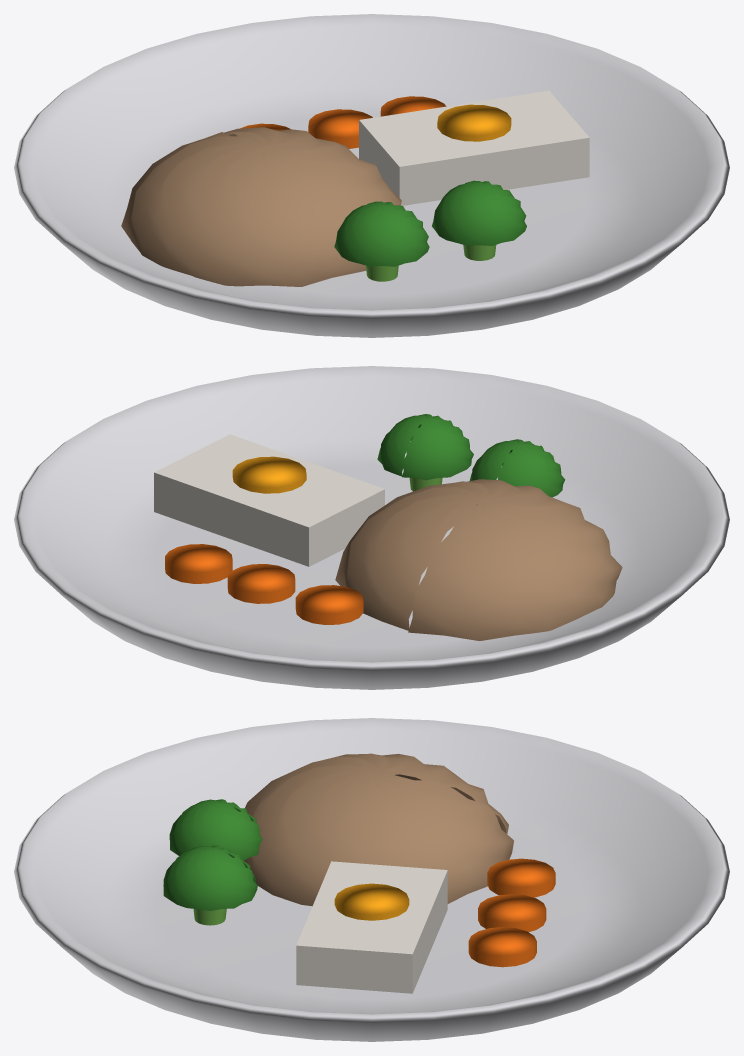
Rendered from Dish_02_SteamedFishBrownRice.obj.
3 renders of one model, top to bottom at view 1: azimuth 30°, elevation 25°; view 2: azimuth 150°, elevation 25°; view 3: azimuth 270°, elevation 25°, orthographic.
Parts seen in each view (by area): view 1: Mat_FoodPlate, Mat_BrownRice, Mat_SteamedFish, Mat_Broccoli, Mat_Carrot, Mat_EggYolk, Mat_Vegetables; view 2: Mat_FoodPlate, Mat_BrownRice, Mat_SteamedFish, Mat_Broccoli, Mat_Carrot, Mat_EggYolk; view 3: Mat_FoodPlate, Mat_BrownRice, Mat_SteamedFish, Mat_Broccoli, Mat_Carrot, Mat_EggYolk.
Part boxes in pixels (left/top/right/bottom): Mat_FoodPlate: left=14, top=14, right=729, bottom=337; Mat_BrownRice: left=121, top=127, right=401, bottom=286; Mat_SteamedFish: left=359, top=91, right=589, bottom=205; Mat_Broccoli: left=334, top=180, right=526, bottom=266; Mat_Carrot: left=240, top=96, right=446, bottom=148; Mat_EggYolk: left=437, top=104, right=511, bottom=141; Mat_Vegetables: left=366, top=245, right=496, bottom=281; Mat_FoodPlate: left=14, top=366, right=729, bottom=689; Mat_BrownRice: left=335, top=479, right=622, bottom=640; Mat_SteamedFish: left=154, top=434, right=384, bottom=566; Mat_Broccoli: left=377, top=414, right=565, bottom=497; Mat_Carrot: left=165, top=544, right=363, bottom=624; Mat_EggYolk: left=232, top=456, right=306, bottom=493; Mat_FoodPlate: left=14, top=718, right=729, bottom=1041; Mat_BrownRice: left=244, top=753, right=513, bottom=906; Mat_SteamedFish: left=296, top=861, right=447, bottom=993; Mat_Broccoli: left=163, top=799, right=262, bottom=910; Mat_Carrot: left=468, top=858, right=555, bottom=967; Mat_EggYolk: left=334, top=883, right=409, bottom=920.
Bounding box in the file's own units: 0.23 × 0.0349 × 0.23.
